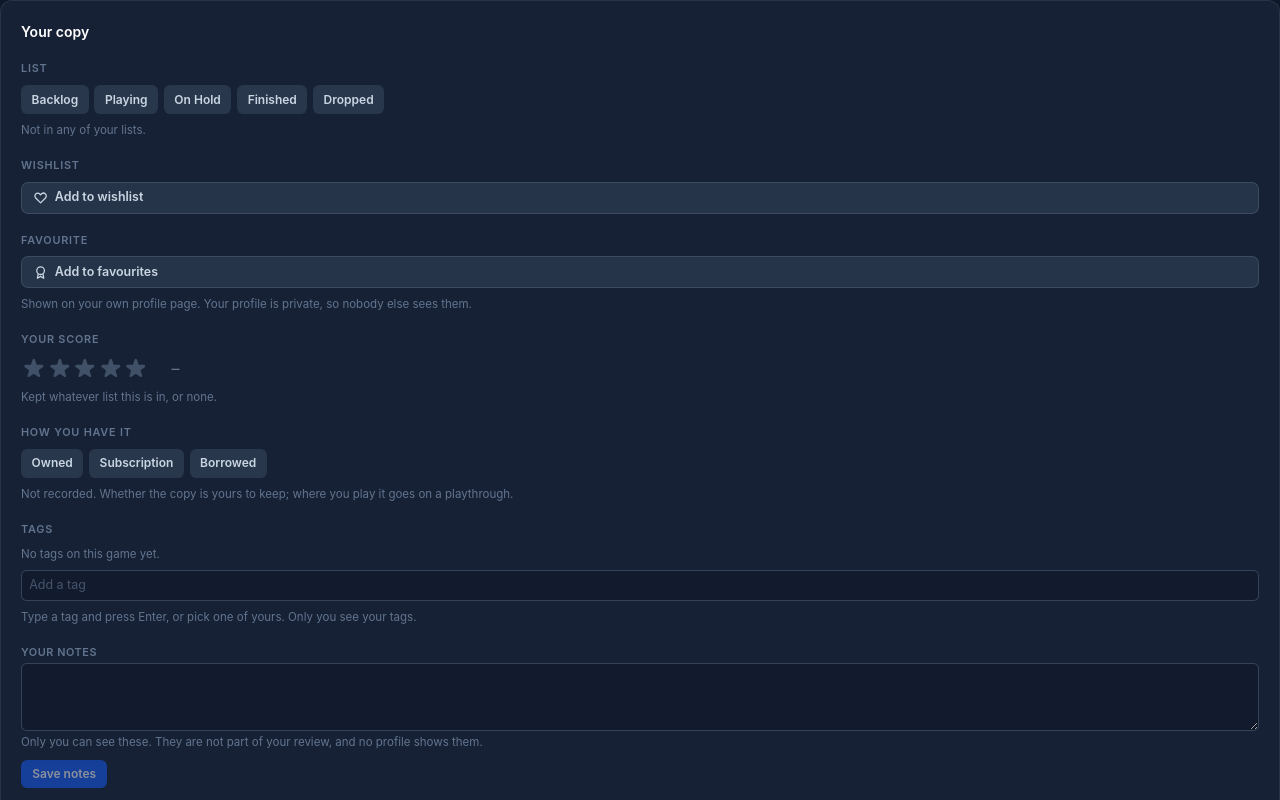
Test: GameUserPanel notes, with the real provider › saves the notes trimmed through the entry endpoint, and holds them as saved
Check: the element named "Your score for Celeste" is enabled, box [21, 356, 179, 381]
Check: the button "Add to wishlist" is enabled, box [21, 182, 1259, 214]
Type "  Beat the B-sides on a pad.  " into the text box labelled "Your notes". click: (640,697)
box: [21, 663, 1259, 731]
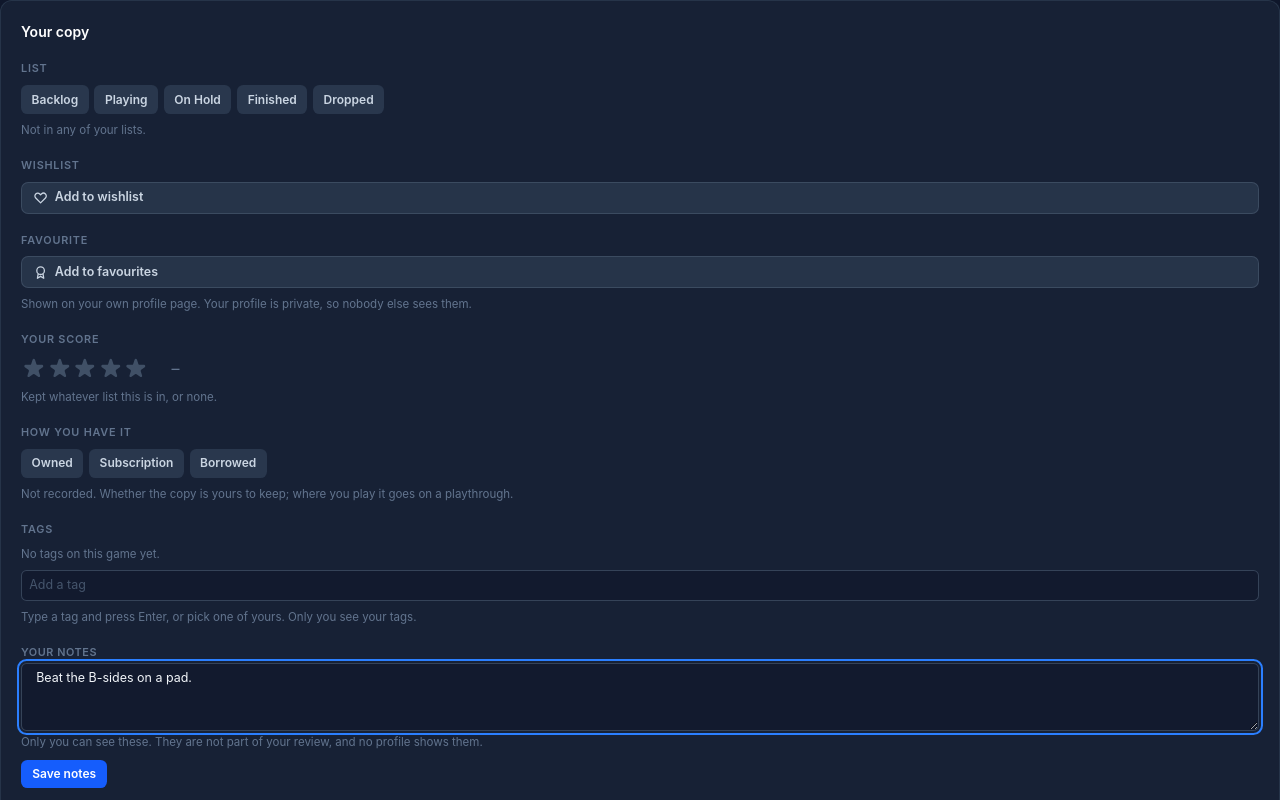
Click the button "Save notes". click: (64,774)
box: [21, 760, 107, 788]
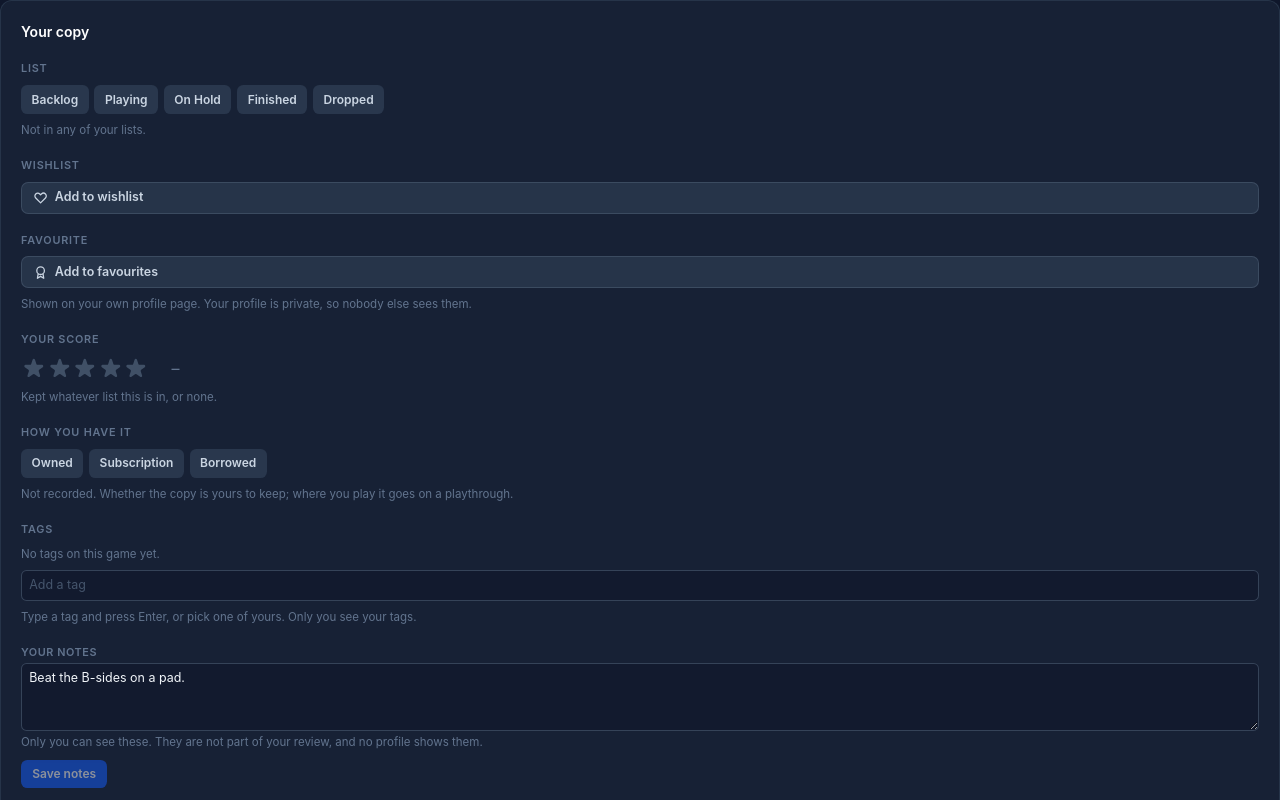
Check: the button "Save notes" is disabled, box [21, 760, 107, 788]
